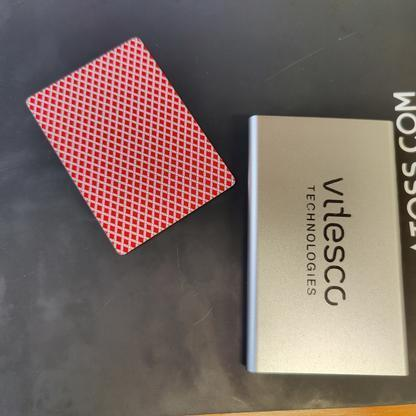card: (13, 29, 246, 263)
